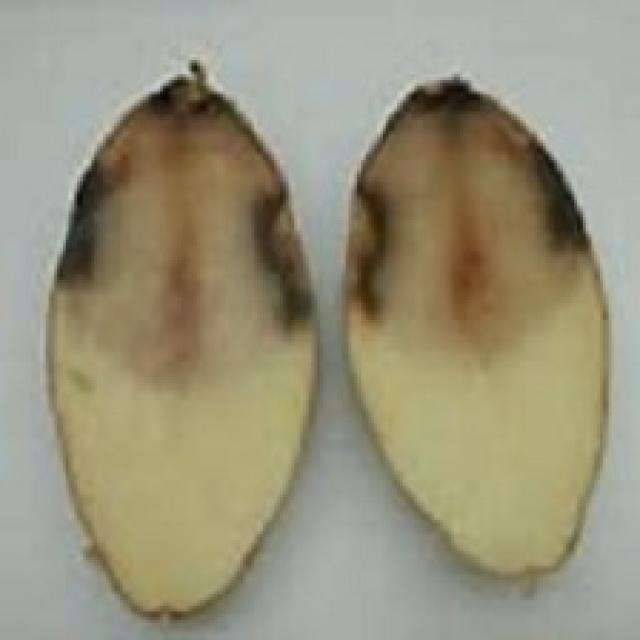pink_rot: (34, 41, 330, 629), (334, 38, 640, 594)
